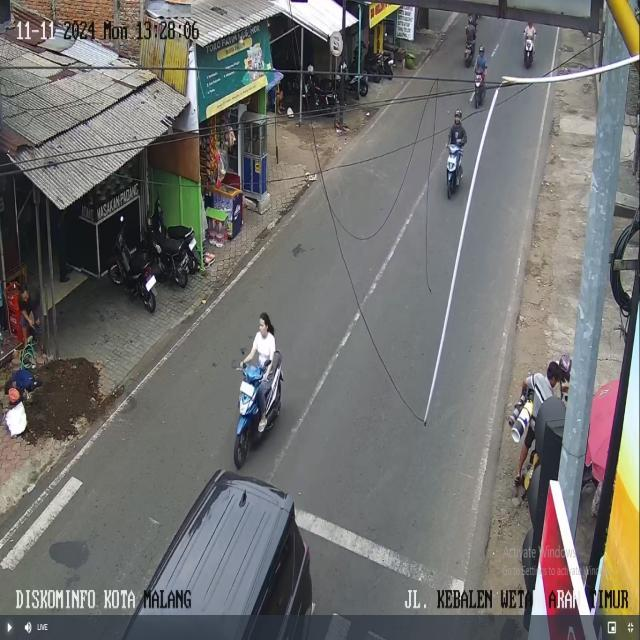Helmet: (558, 354, 572, 381), (8, 387, 20, 403), (454, 109, 461, 118), (468, 14, 474, 24), (479, 46, 485, 54), (307, 64, 313, 72)
Number Plate: (240, 381, 254, 396), (145, 275, 155, 290), (189, 239, 195, 249)
